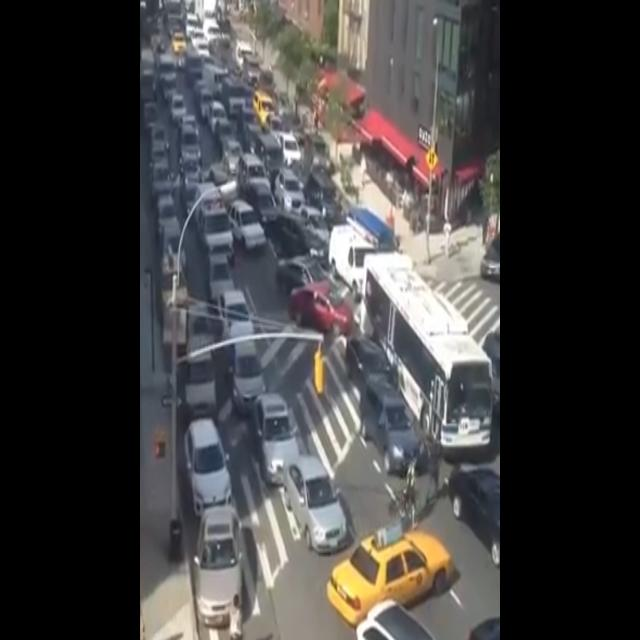Ambulance: (193, 169, 241, 260)
